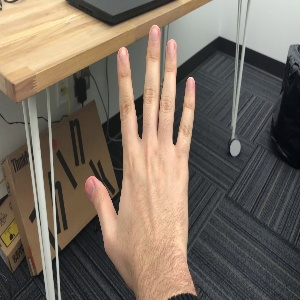hand: (85, 24, 195, 264)
